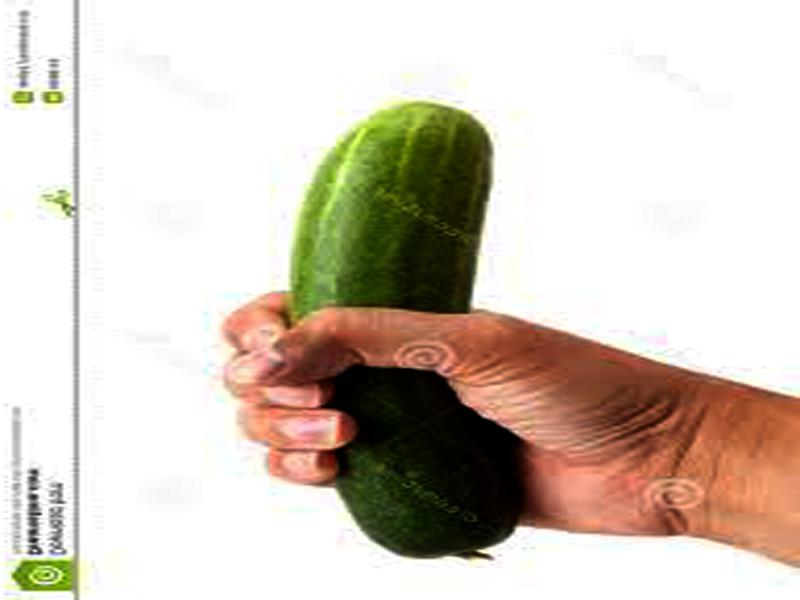Cucumber: (285, 101, 517, 554)
